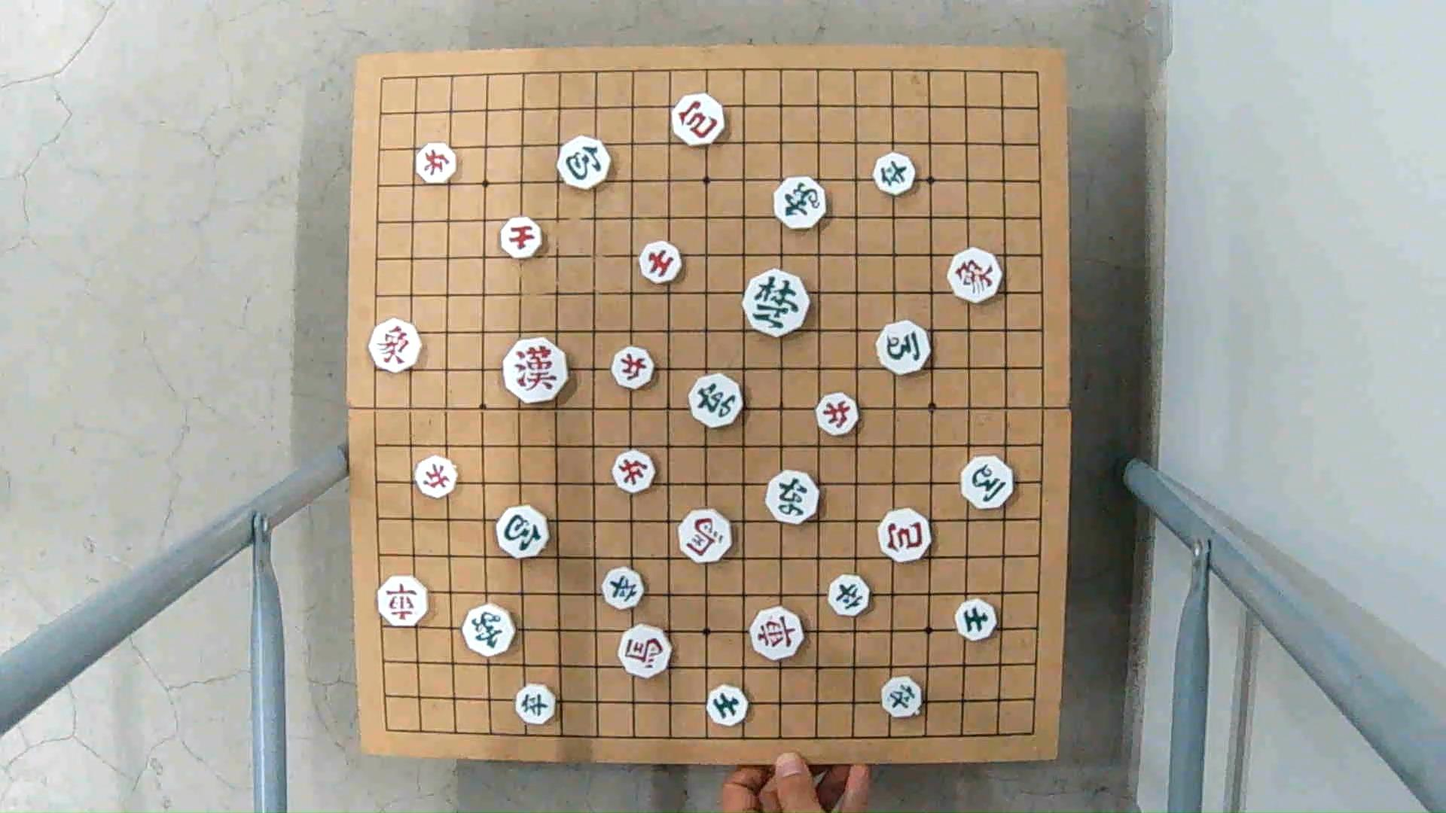cha_green: (762, 473, 820, 523), (691, 373, 743, 425)
cha_red: (746, 609, 804, 659), (374, 579, 431, 626)
jol_green: (601, 569, 648, 608), (880, 678, 925, 718), (873, 155, 918, 194), (830, 577, 871, 616), (517, 686, 555, 722)
jol_red: (613, 449, 654, 493), (412, 145, 457, 184), (412, 458, 459, 495), (612, 348, 654, 387), (817, 395, 858, 433)
ma_green: (874, 324, 932, 373), (963, 458, 1012, 510)
ma_red: (677, 510, 735, 561), (620, 626, 670, 678)
po_green: (493, 509, 551, 559), (554, 139, 611, 188)
po_red: (670, 97, 728, 147), (880, 513, 938, 562)
sa_green: (953, 601, 999, 640), (708, 686, 746, 727)
sa_red: (497, 218, 544, 258), (638, 240, 682, 282)
sang_green: (773, 179, 828, 230), (463, 607, 519, 653)
sang_red: (948, 251, 1000, 306), (369, 319, 420, 370)
wang_green: (742, 272, 810, 333)
wang_red: (502, 338, 573, 403)
